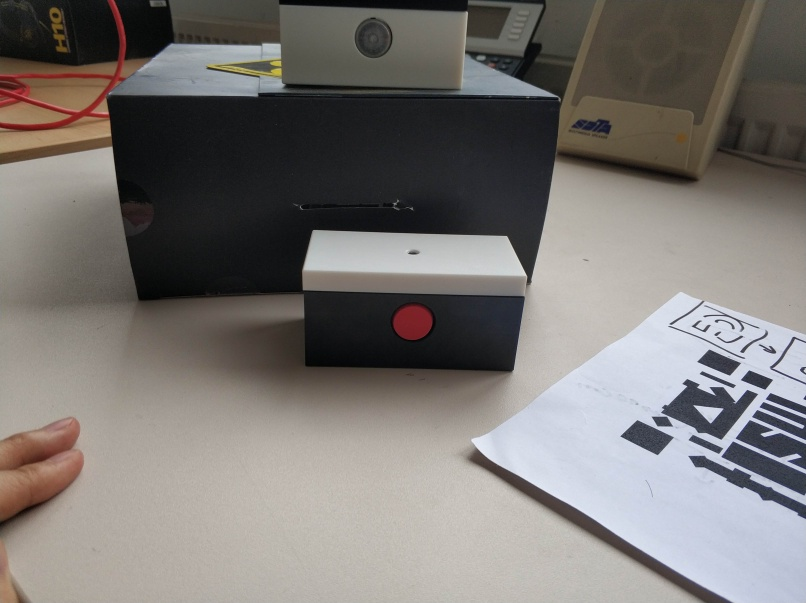black+white+silver: (274, 1, 472, 90)
white+black+red: (301, 226, 529, 375)
